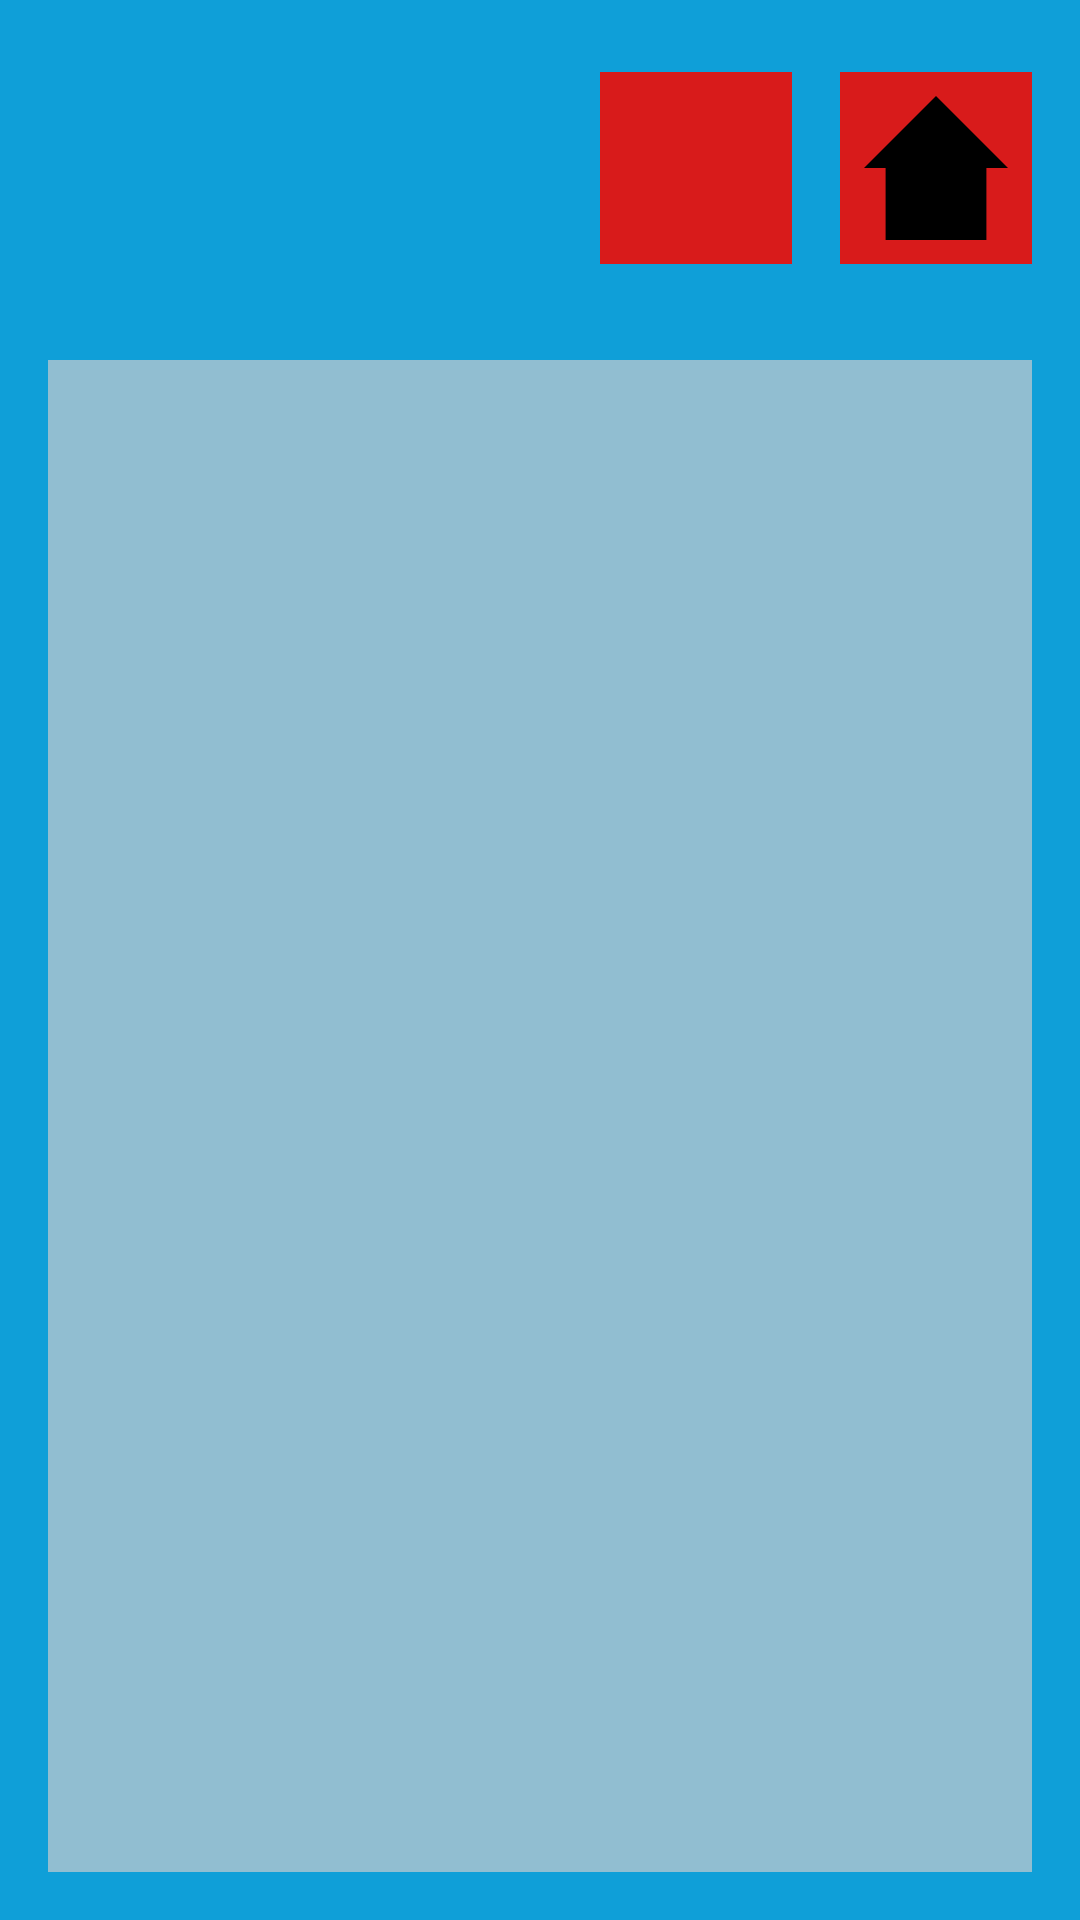

Where to tap for icons on this 1080w x 1920h app screen, as point (x, y):
home: point (936, 168)
